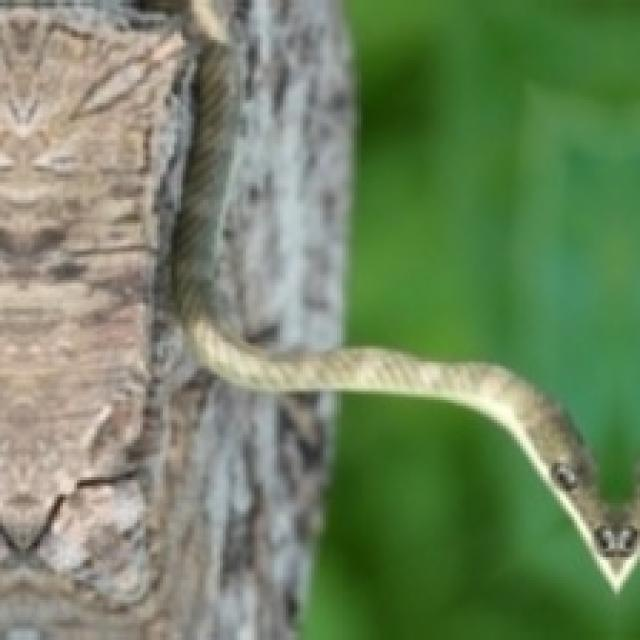paradise tree snake: (0, 0, 323, 637), (346, 0, 637, 500), (349, 0, 637, 497), (306, 394, 637, 637), (320, 397, 637, 637), (223, 0, 349, 346)
